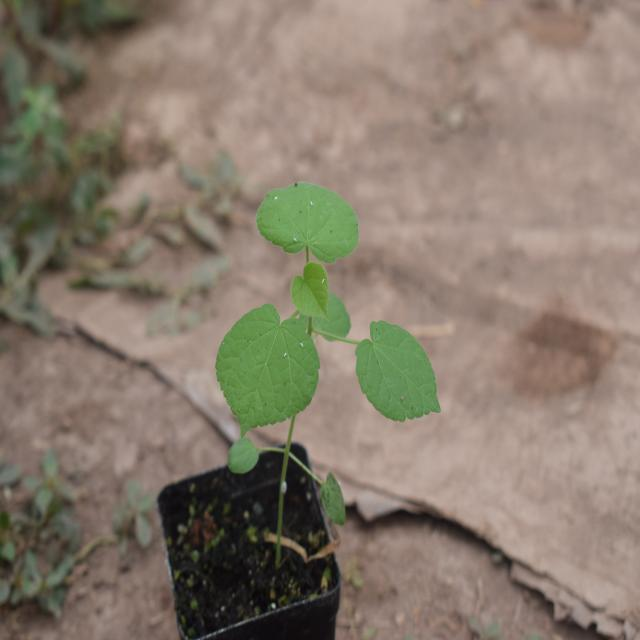abutilon theophrasti: (210, 136, 440, 535)
